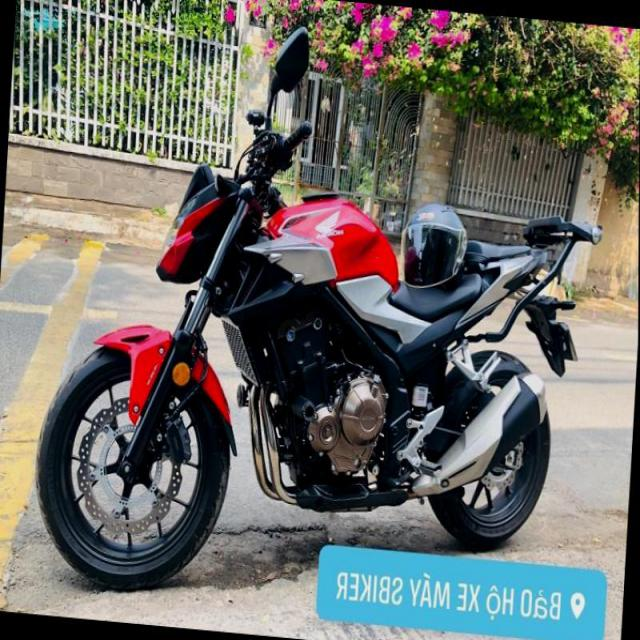CB500F: (27, 147, 601, 634)
